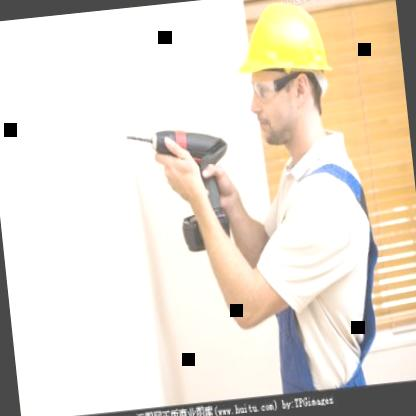helmet: (220, 0, 349, 168)
